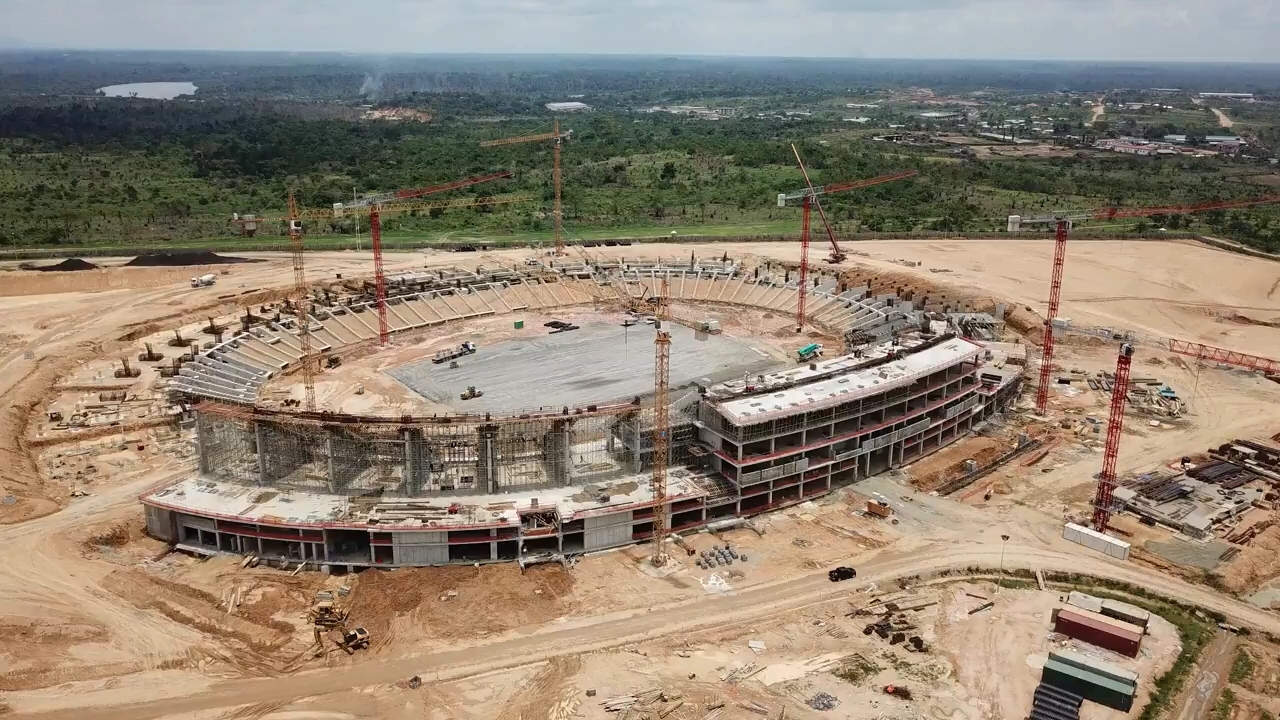ismakinesi: (315, 622, 373, 658), (309, 598, 354, 623)
kamyon: (430, 336, 477, 366), (189, 269, 220, 291)
